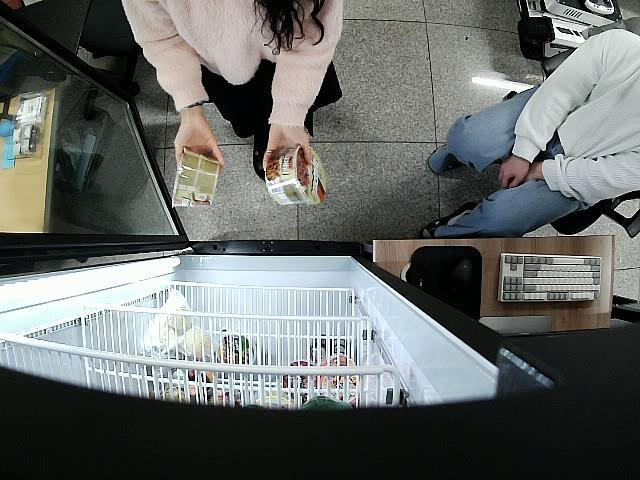03_chapagetti_L: (266, 144, 326, 206), (168, 146, 222, 209)
